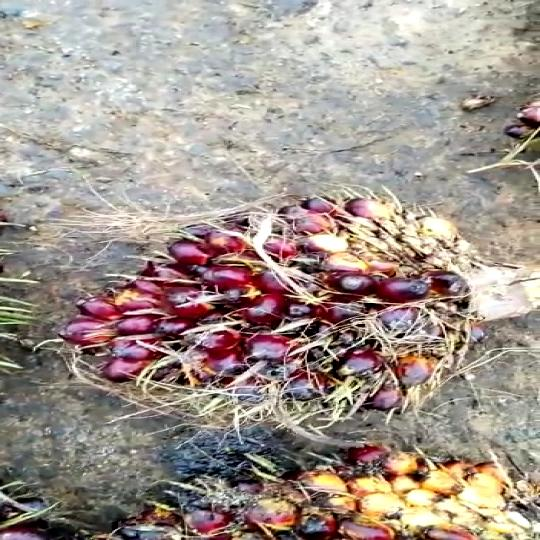kurang masak: (69, 186, 540, 428)
